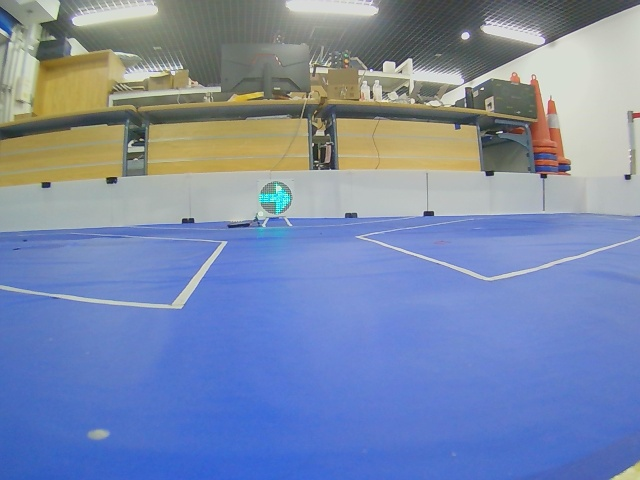right_green: (258, 181, 293, 215)
